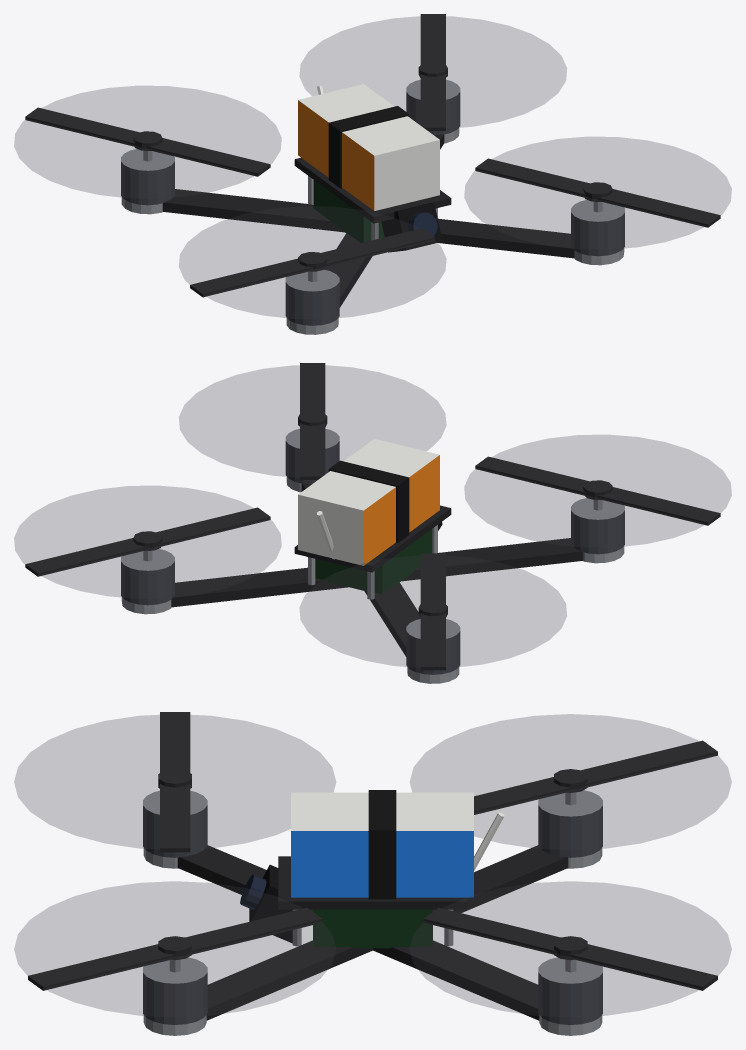
File: quad5.gltf
The picture shows the model from 3 angles, top to bottom: view 1: azimuth 30°, elevation 25°; view 2: azimuth 150°, elevation 25°; view 3: azimuth 270°, elevation 25°; orthographic projection. The views are drawn at different scales.
Parts seen in each view (by area): view 1: body, prop_spin_0, prop_spin_1, prop_spin_3, prop_spin_2, prop_still_3, prop_still_0, prop_still_1, prop_still_2; view 2: body, prop_spin_0, prop_spin_1, prop_spin_2, prop_spin_3, prop_still_2, prop_still_1, prop_still_0, prop_still_3; view 3: body, prop_spin_2, prop_spin_3, prop_spin_1, prop_spin_0, prop_still_2, prop_still_3, prop_still_0, prop_still_1.
Boxes of the visible parts, box(x1,y1,x2,y2) form: body: box(121, 79, 624, 334); prop_spin_0: box(14, 86, 281, 198); prop_spin_1: box(179, 206, 446, 318); prop_spin_3: box(464, 137, 731, 249); prop_spin_2: box(299, 16, 566, 128); prop_still_3: box(475, 158, 720, 227); prop_still_0: box(25, 107, 270, 176); prop_still_1: box(190, 228, 435, 297); prop_still_2: box(418, 14, 447, 130); body: box(121, 428, 624, 683); prop_spin_0: box(299, 555, 566, 667); prop_spin_1: box(464, 435, 731, 547); prop_spin_2: box(14, 486, 281, 598); prop_spin_3: box(179, 365, 446, 477); prop_still_2: box(25, 507, 270, 576); prop_still_1: box(475, 456, 720, 525); prop_still_0: box(418, 553, 447, 670); prop_still_3: box(298, 363, 327, 479); body: box(143, 790, 602, 1035); prop_spin_2: box(410, 881, 731, 1016); prop_spin_3: box(14, 881, 335, 1016); prop_spin_1: box(14, 715, 335, 849); prop_spin_0: box(410, 714, 731, 849); prop_still_2: box(423, 908, 717, 990); prop_still_3: box(28, 908, 322, 990); prop_still_0: box(474, 740, 717, 814); prop_still_1: box(158, 712, 191, 852).
Size of the model in its own units: 0.2886 by 0.0571 by 0.2886.
